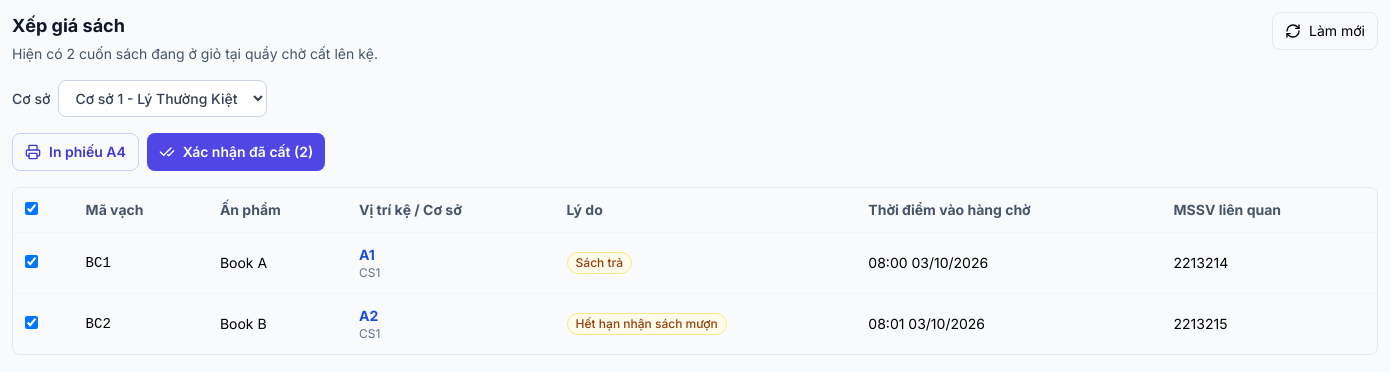
Test: stale selections show skipped information and refresh the empty queue
This screenshot has width=1390, height=372.
Expected: the text "Book A" is shown, [208, 232, 347, 294]
Click the button "Xác nhận đã cất (2)" at [236, 152], box [147, 133, 325, 171]
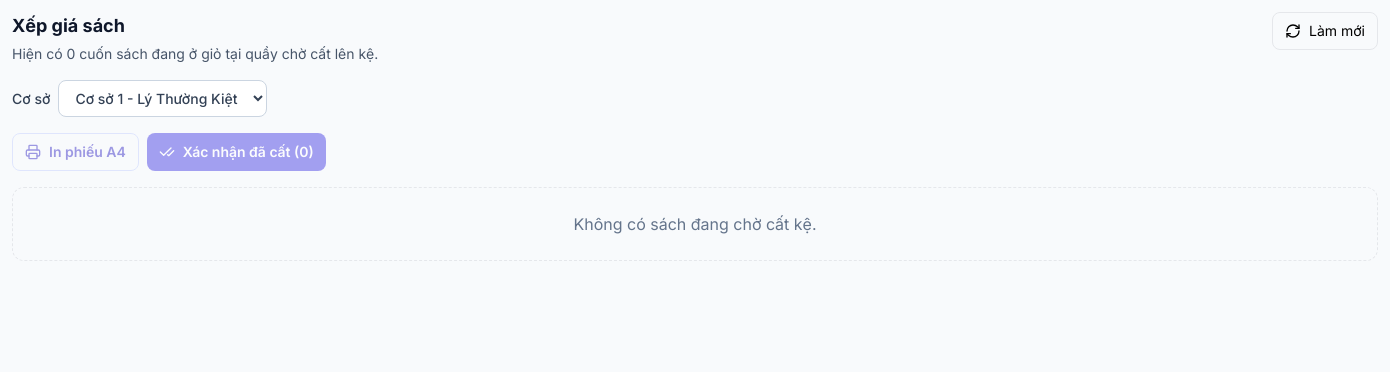
Expected: the text "Không có sách đang chờ cất kệ." is shown, [12, 187, 1378, 261]
